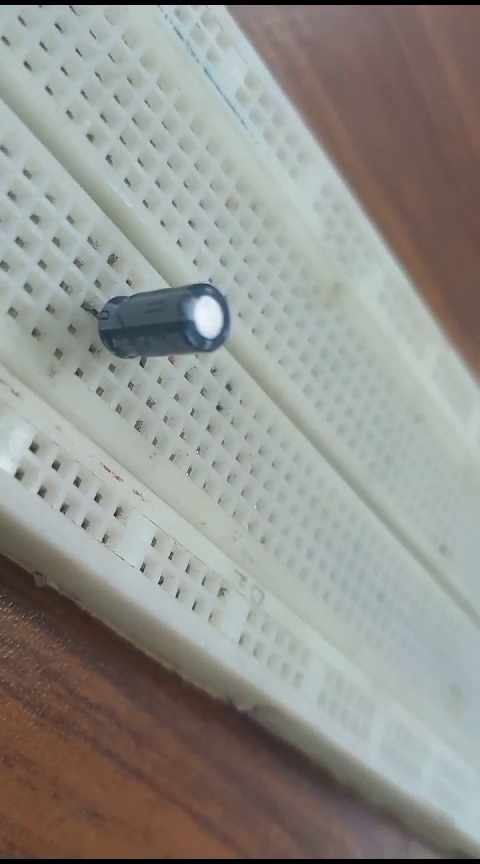capacitor: (66, 277, 231, 368)
